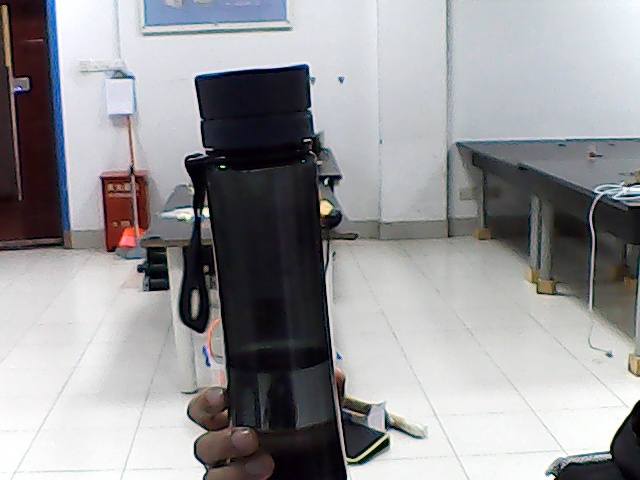cup: (238, 104, 302, 415)
